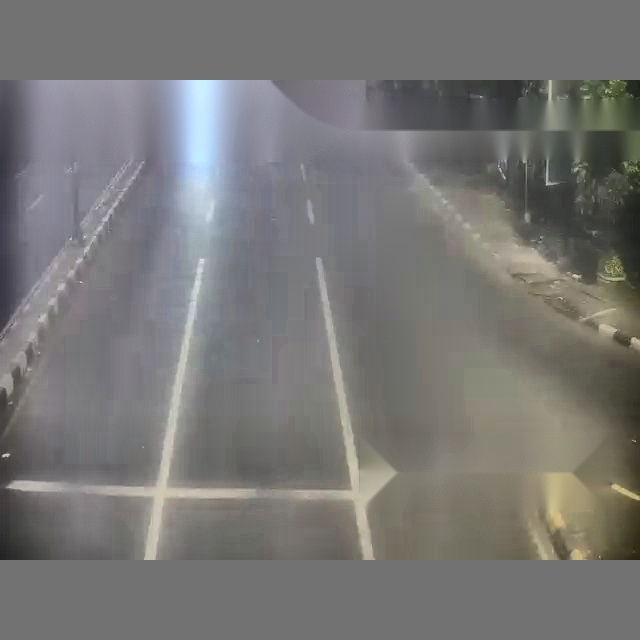Truk: (235, 106, 638, 558)
